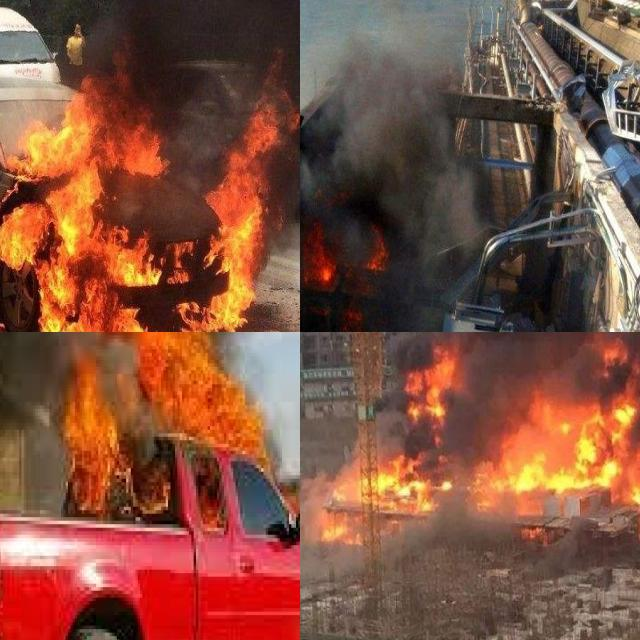fire: (0, 50, 294, 332), (321, 332, 640, 544), (56, 332, 300, 538), (300, 182, 392, 332)
smoke: (376, 332, 640, 507), (334, 32, 482, 279), (77, 0, 300, 145), (0, 332, 254, 419), (300, 502, 436, 576), (300, 0, 332, 182)
